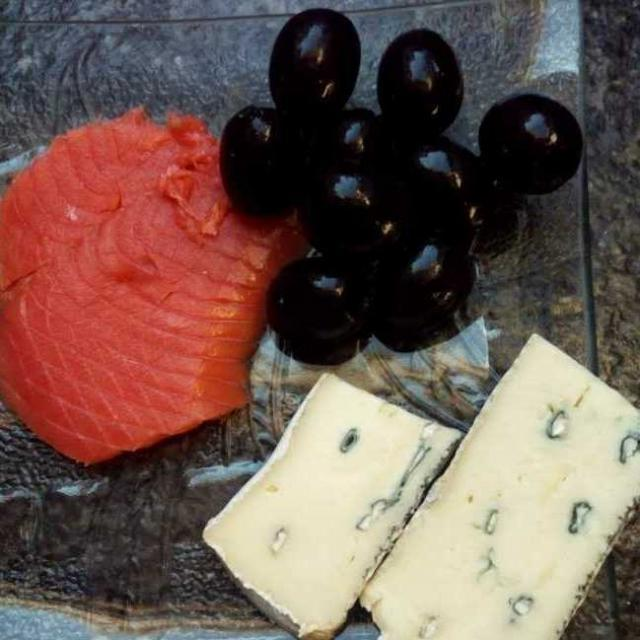cheese: (199, 322, 636, 634)
salmon: (0, 102, 306, 493)
